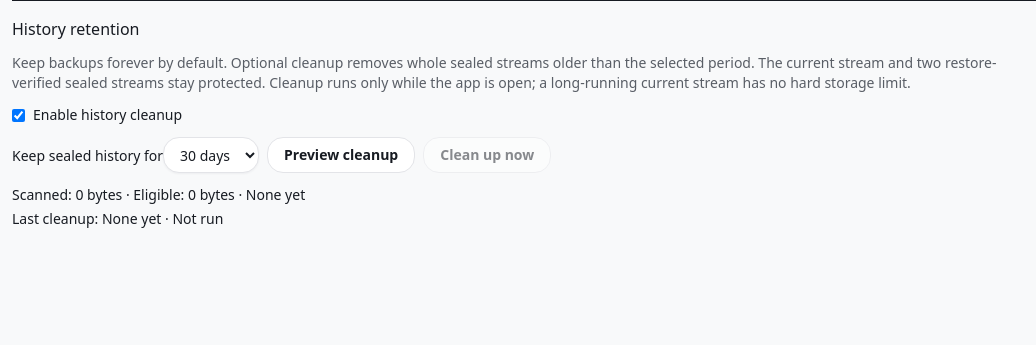
Test: history retention › invalidates the displayed preview when the period changes and cannot delete without survivors
Click the button "Preview cleanup" at point(341, 155), box [267,137,415,173]
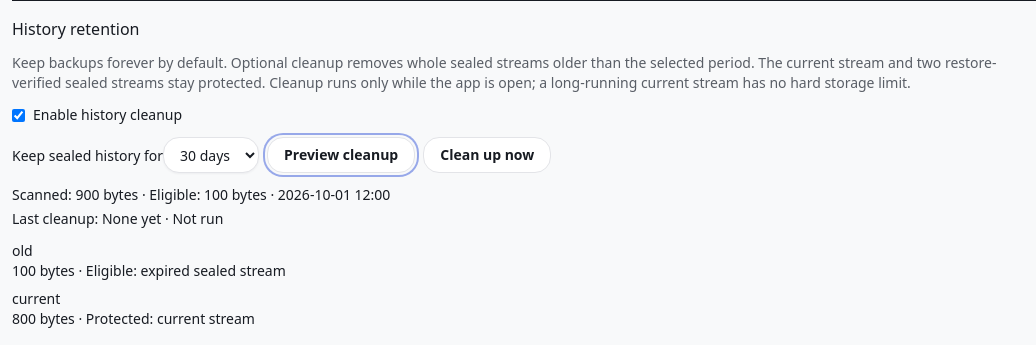
Now the list named "Deletion candidates and protected streams" is shown, box [12,241,286,328]
Select "90 days" in the dropdown labelled "Keep sealed history for" at point(211, 155), box [163,137,259,173]
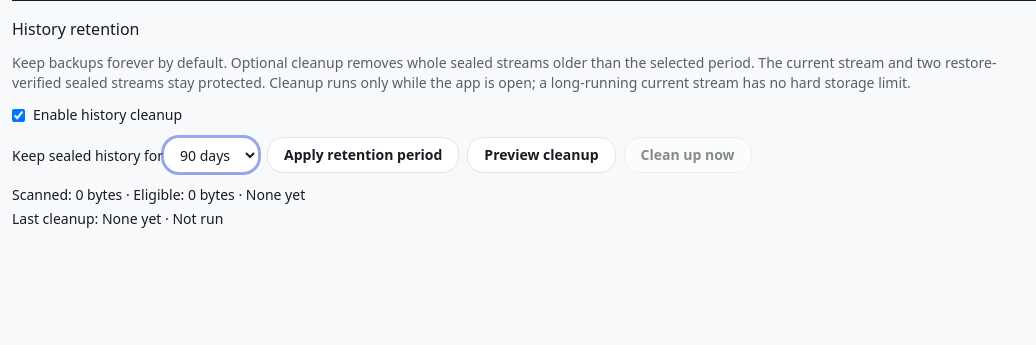
Now the list is gone
Now the button "Clean up now" is disabled, box [624,137,752,173]
Click the button "Preview cleanup" at point(542, 155), box [467,137,616,173]
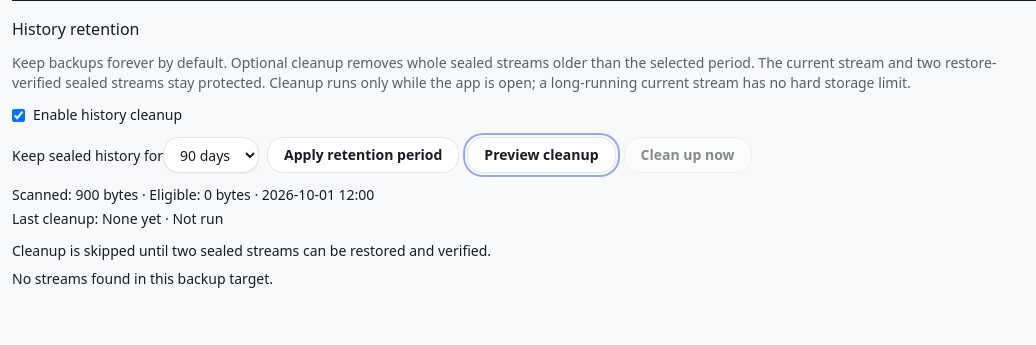
Now the button "Clean up now" is disabled, box [624,137,752,173]
Now the text "Cleanup is skipped until two sealed streams can be restored and verified." is shown, box [12,241,491,260]
